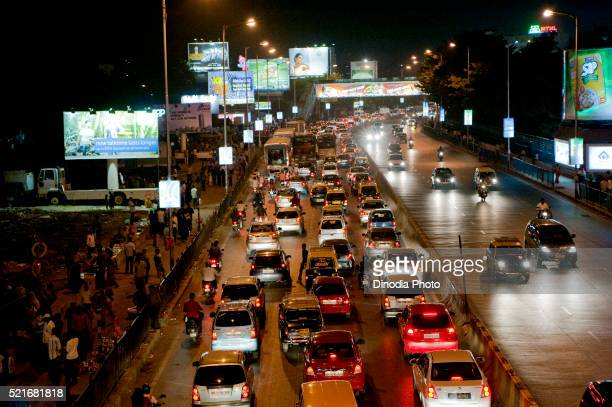bike: (182, 293, 204, 344), (199, 262, 217, 305), (207, 237, 227, 271), (225, 208, 244, 234), (534, 199, 554, 219), (476, 180, 491, 203), (435, 145, 448, 160)
car: (409, 351, 492, 407), (300, 332, 370, 392), (391, 304, 462, 356), (192, 351, 258, 406), (205, 302, 266, 359), (521, 216, 579, 265), (306, 275, 358, 319), (241, 246, 294, 287), (277, 296, 320, 343), (292, 381, 364, 407), (221, 276, 270, 312), (487, 242, 531, 281), (300, 243, 344, 277), (272, 205, 310, 236), (428, 162, 462, 195), (361, 228, 403, 254), (314, 213, 353, 241), (245, 221, 283, 249), (364, 206, 402, 231), (468, 162, 500, 183), (271, 185, 300, 207), (322, 187, 349, 208), (384, 150, 409, 170), (318, 161, 342, 177)
truck: (34, 165, 160, 208)
